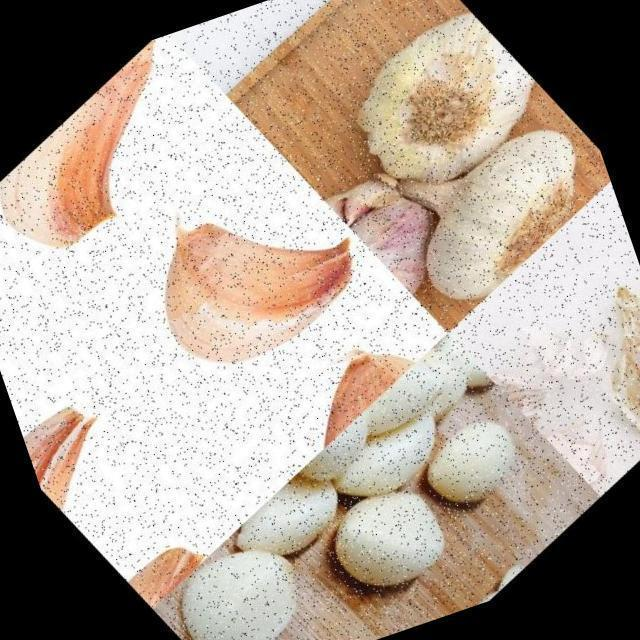garlic: (99, 310, 596, 640), (88, 118, 400, 422), (0, 23, 262, 290), (361, 90, 637, 334), (301, 0, 575, 240), (213, 312, 449, 499), (11, 366, 176, 556), (312, 133, 472, 314), (0, 226, 40, 393)
